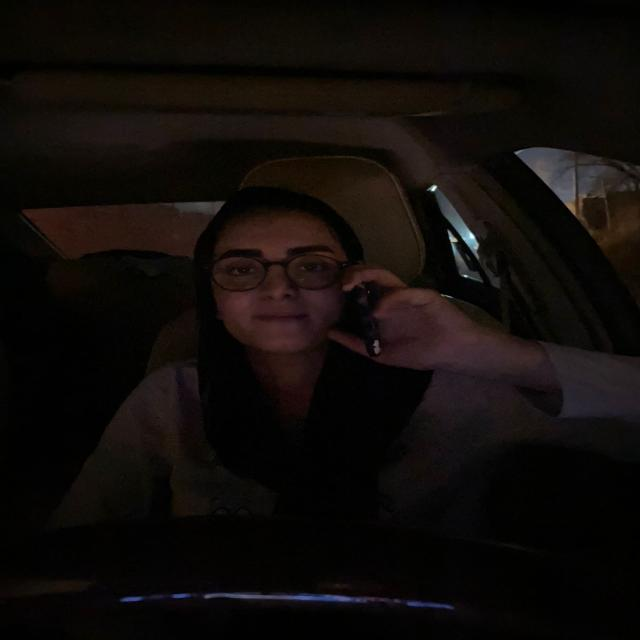phone: (346, 266, 392, 361)
